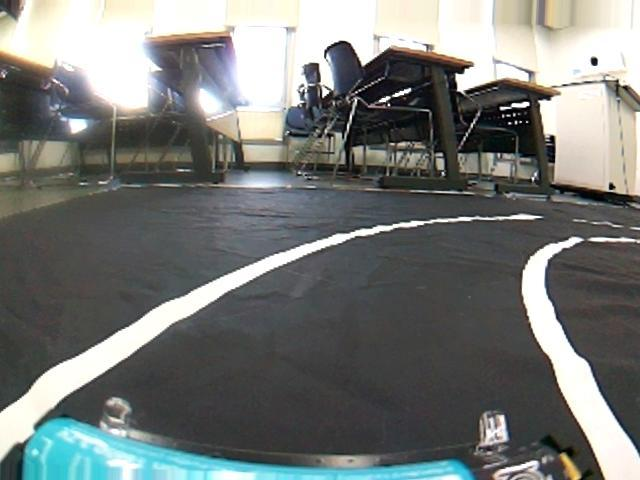right: (0, 221, 640, 480)
